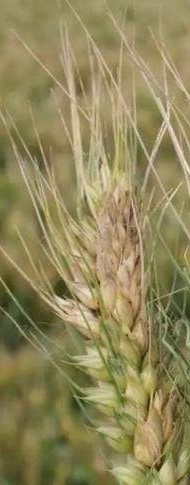Wheat scab: (48, 158, 190, 485)
